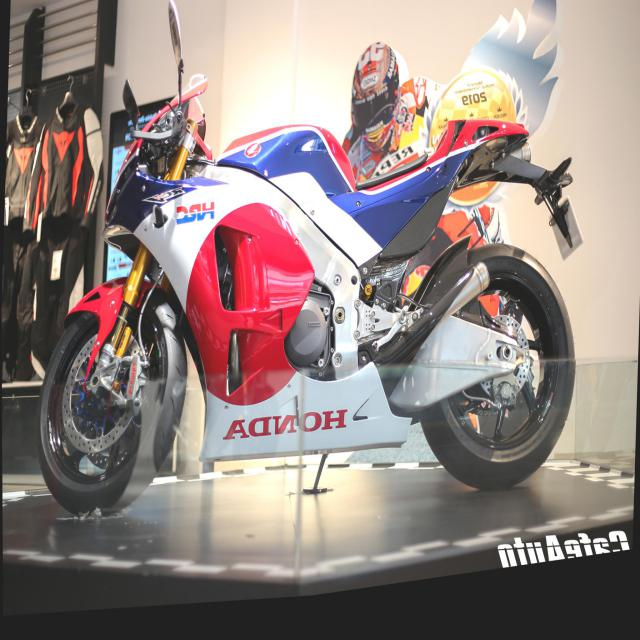HRC RCV 213: (29, 22, 590, 568)
